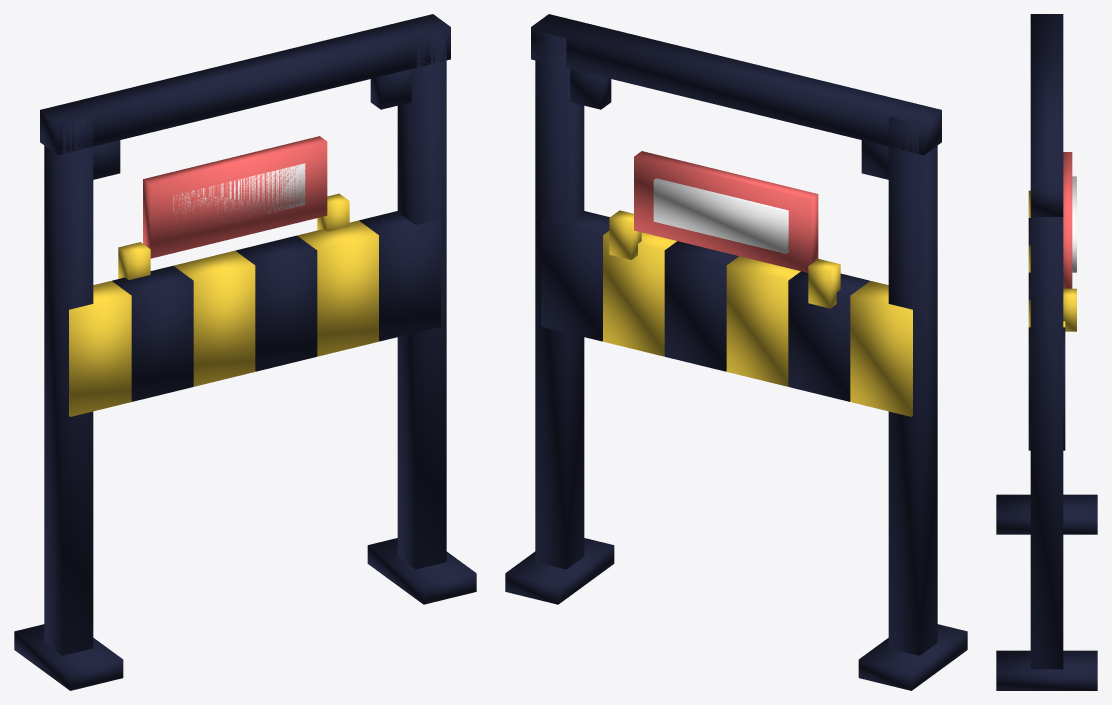
Rendered from overhead_beam.glb.
The picture shows the model from 3 angles, left to right: view 1: azimuth 30°, elevation 25°; view 2: azimuth 150°, elevation 25°; view 3: azimuth 270°, elevation 25°; orthographic projection. The views are drawn at different scales.
Visible parts, largest first — view 1: overhead_beam; view 2: overhead_beam; view 3: overhead_beam.
Part boxes in pixels (box(x1,y1,x2,y2)): overhead_beam: box(14, 14, 476, 690); overhead_beam: box(505, 14, 967, 690); overhead_beam: box(996, 14, 1097, 690).
Bounding box in the file's own units: 1.84 × 2.39 × 0.44.
